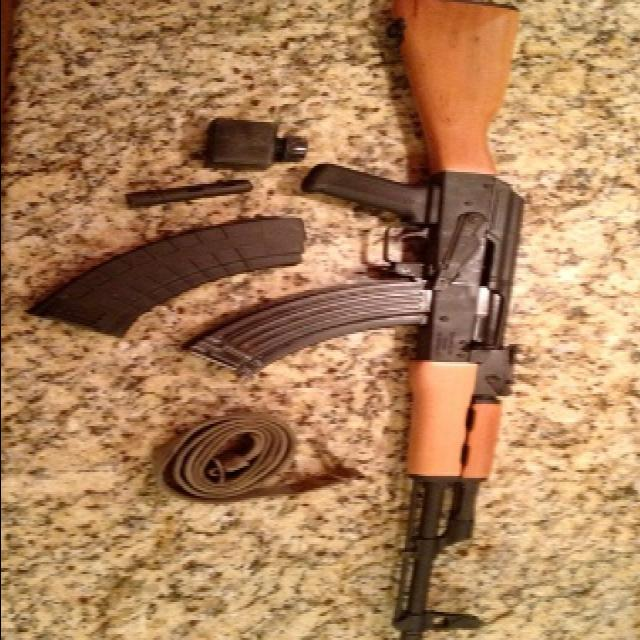rifle: (193, 1, 559, 639)
